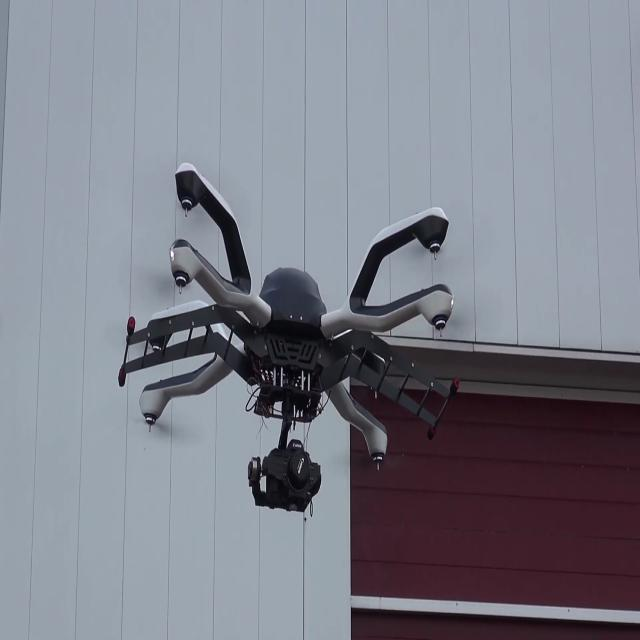drone: (101, 135, 446, 506)
